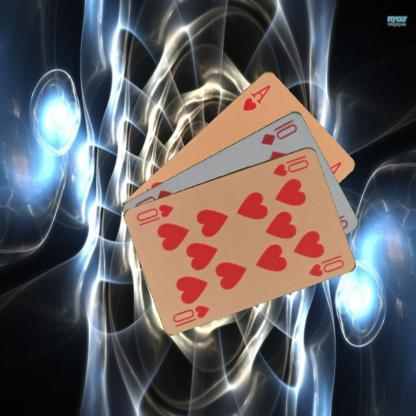10d: (258, 116, 299, 146)
10h: (270, 152, 310, 177), (170, 302, 212, 324)
Ah: (240, 82, 272, 112)
